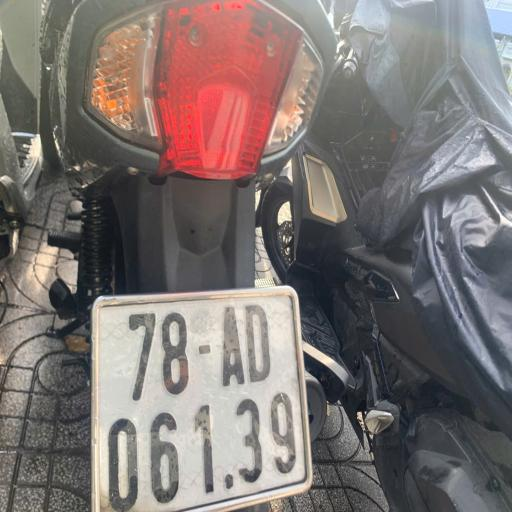0: (101, 415, 142, 512)
1: (192, 401, 223, 500)
3: (232, 394, 271, 493)
6: (148, 411, 183, 512)
7: (126, 304, 158, 408)
8: (157, 306, 196, 398)
9: (262, 387, 306, 486)
A: (217, 298, 248, 398)
D: (240, 298, 278, 392)
